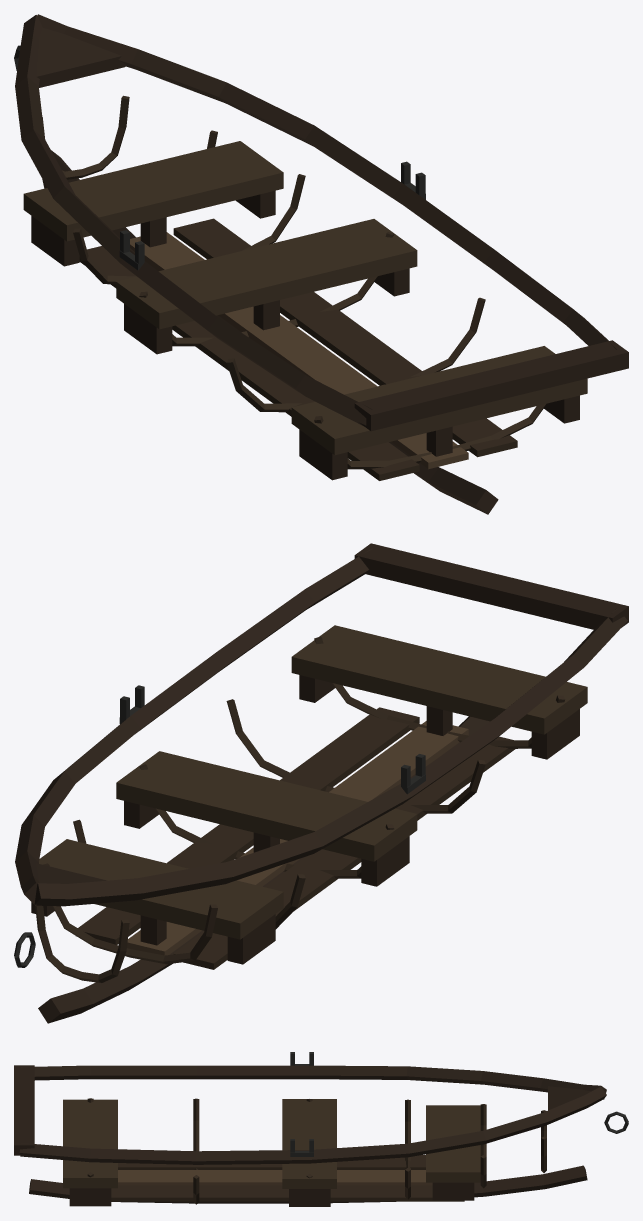
The model's file is BoatInterior.glb.
3 renders of one model, top to bottom at view 1: azimuth 30°, elevation 25°; view 2: azimuth 150°, elevation 25°; view 3: azimuth 270°, elevation 25°, orthographic. The views are drawn at different scales.
Parts seen in each view (by area): view 1: BoatInterior; view 2: BoatInterior; view 3: BoatInterior.
Part boxes in pixels (x1,y1,x2,y2): BoatInterior: [14, 14, 628, 514]; BoatInterior: [14, 543, 628, 1023]; BoatInterior: [14, 1052, 628, 1206].
Size of the model in its own units: 5.76 by 3.44 by 16.27.
